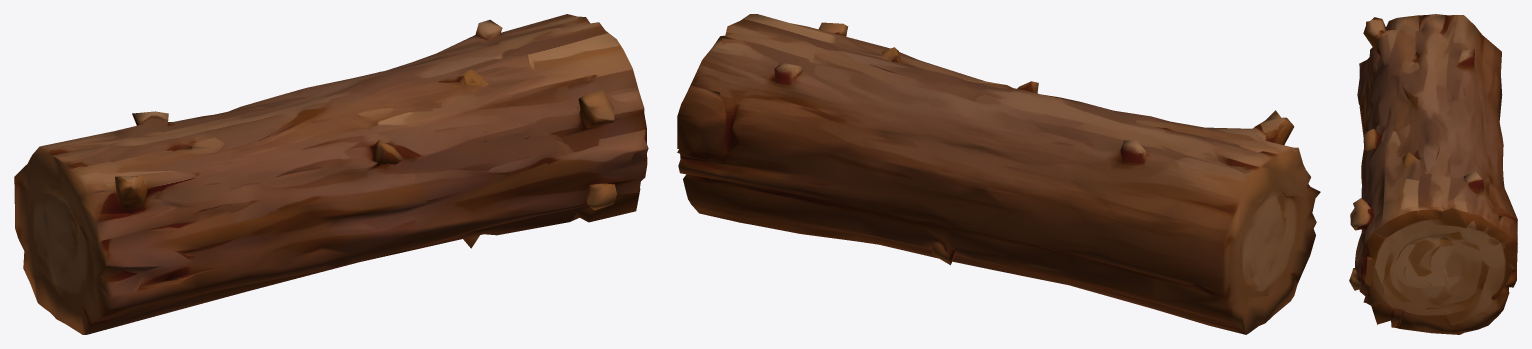
The model's file is item_log.glb.
3 renders of one model, left to right at view 1: azimuth 30°, elevation 25°; view 2: azimuth 150°, elevation 25°; view 3: azimuth 270°, elevation 25°, orthographic. The views are drawn at different scales.
Parts seen in each view (by area): view 1: tripo_node_7cbb7548-7c2b-46cc-a2d2-3d8de9d225e6; view 2: tripo_node_7cbb7548-7c2b-46cc-a2d2-3d8de9d225e6; view 3: tripo_node_7cbb7548-7c2b-46cc-a2d2-3d8de9d225e6.
Part boxes in pixels (<box>): tripo_node_7cbb7548-7c2b-46cc-a2d2-3d8de9d225e6: <box>14,14,648,334</box>; tripo_node_7cbb7548-7c2b-46cc-a2d2-3d8de9d225e6: <box>677,14,1320,334</box>; tripo_node_7cbb7548-7c2b-46cc-a2d2-3d8de9d225e6: <box>1349,14,1517,334</box>.
Bounding box in the file's own units: 1 × 0.3124 × 0.3611.
Materials: 1 (1 with a texture image).
